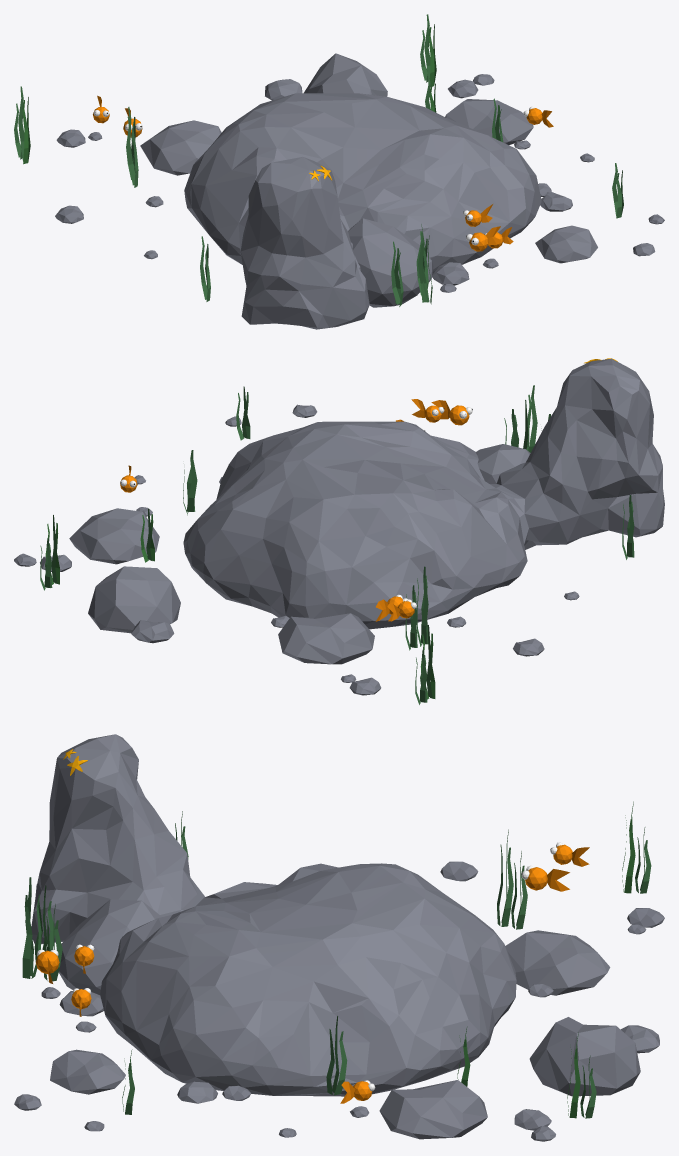
The model's file is Beach_House_Rocks_01.fbx.
3 views of the same model, one above another, from view 1: azimuth 30°, elevation 25°; view 2: azimuth 150°, elevation 25°; view 3: azimuth 270°, elevation 25° (orthographic). The views are drawn at different scales.
Visible parts, largest first — view 1: Beach_House_Rocks_01; view 2: Beach_House_Rocks_01; view 3: Beach_House_Rocks_01.
Part boxes in pixels (x1,y1,x2,y2): Beach_House_Rocks_01: (14, 14, 664, 329); Beach_House_Rocks_01: (14, 358, 664, 704); Beach_House_Rocks_01: (14, 734, 664, 1141).
Size of the model in its own units: 23.76 by 8.18 by 23.68.
